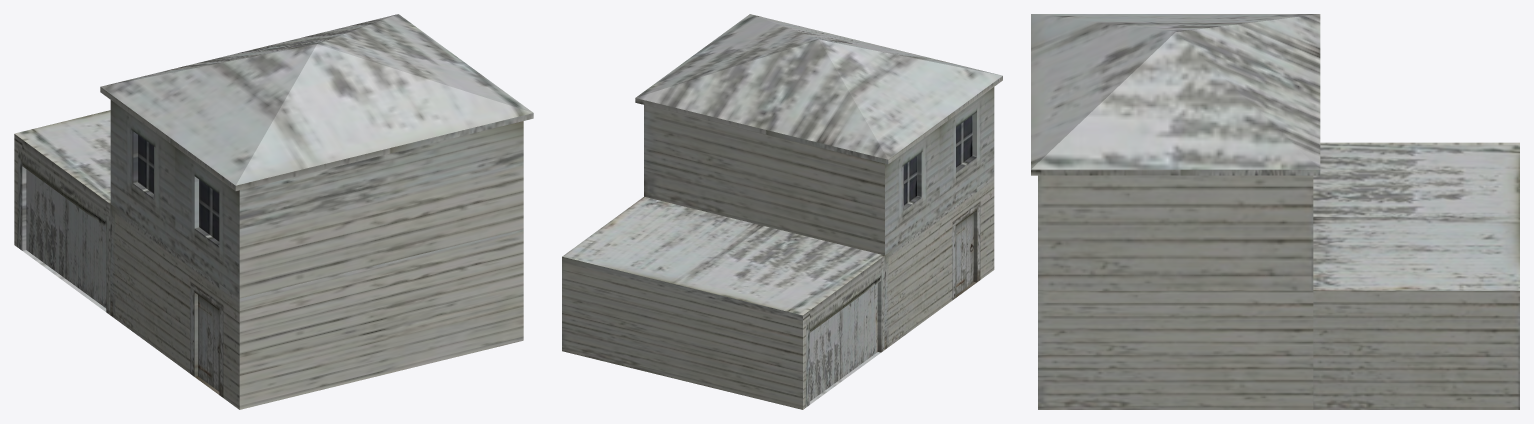
The model's file is House.fbx.
3 views of the same model, side by side, from view 1: azimuth 30°, elevation 25°; view 2: azimuth 150°, elevation 25°; view 3: azimuth 270°, elevation 25° (orthographic). The views are drawn at different scales.
Visible parts, largest first — view 1: House; view 2: House; view 3: House.
Part boxes in pixels (bbox=[...]): House: bbox=[14, 14, 533, 409]; House: bbox=[562, 14, 1002, 409]; House: bbox=[1031, 14, 1519, 409].
Size of the model in its own units: 670 by 890 by 610.
1 material, 1 textured.
